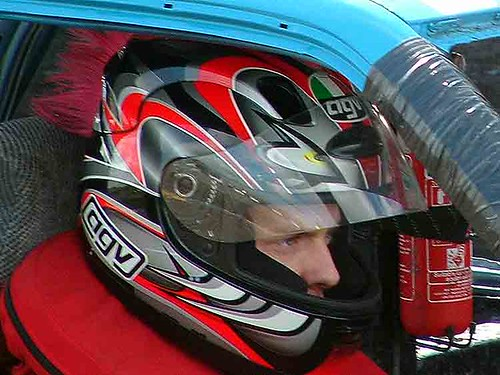helmet: (76, 37, 411, 361)
